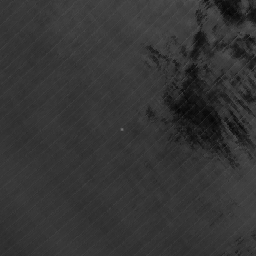Target: (119, 127, 124, 131)
